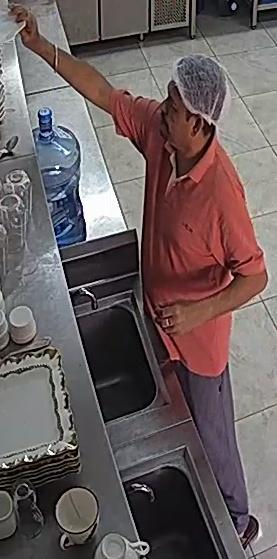no_apron: (140, 76, 227, 370)
